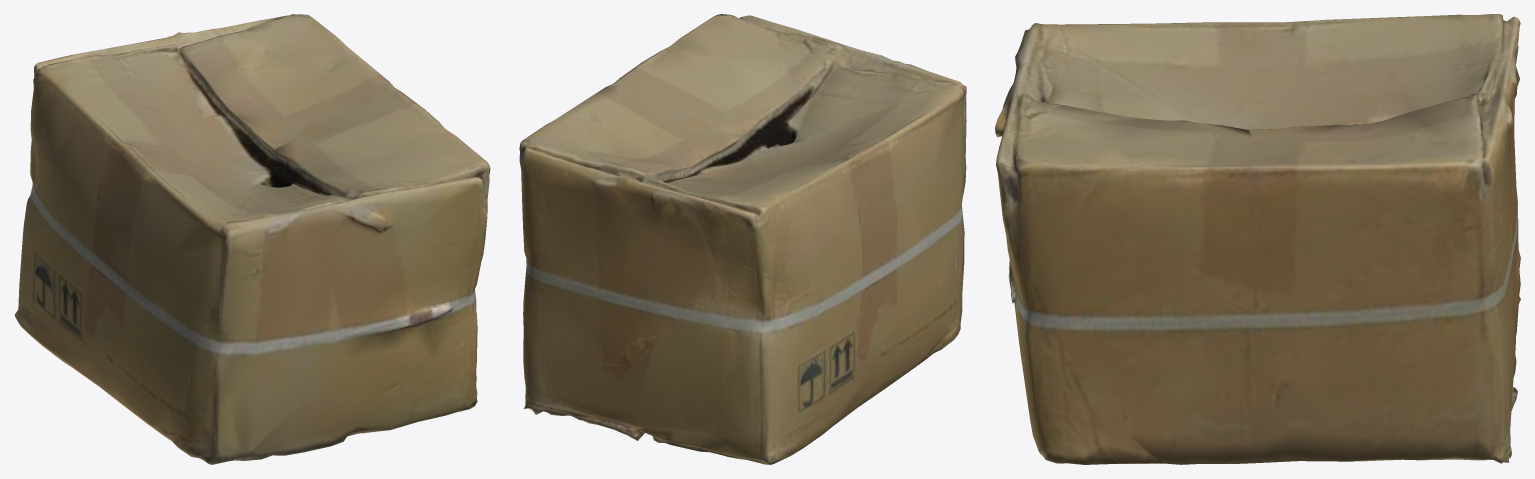
File: cardboard_box_01.glb
3 renders of one model, left to right at view 1: azimuth 30°, elevation 25°; view 2: azimuth 150°, elevation 25°; view 3: azimuth 270°, elevation 25°, orthographic. The views are drawn at different scales.
Visible parts, largest first — view 1: cardboard_box_01; view 2: cardboard_box_01; view 3: cardboard_box_01.
Part boxes in pixels (<box>): cardboard_box_01: <box>14,14,490,464</box>; cardboard_box_01: <box>519,14,966,464</box>; cardboard_box_01: <box>995,14,1520,464</box>.
Size of the model in its own units: 0.3868 by 0.3418 by 0.5159.
1 material, 1 textured.
